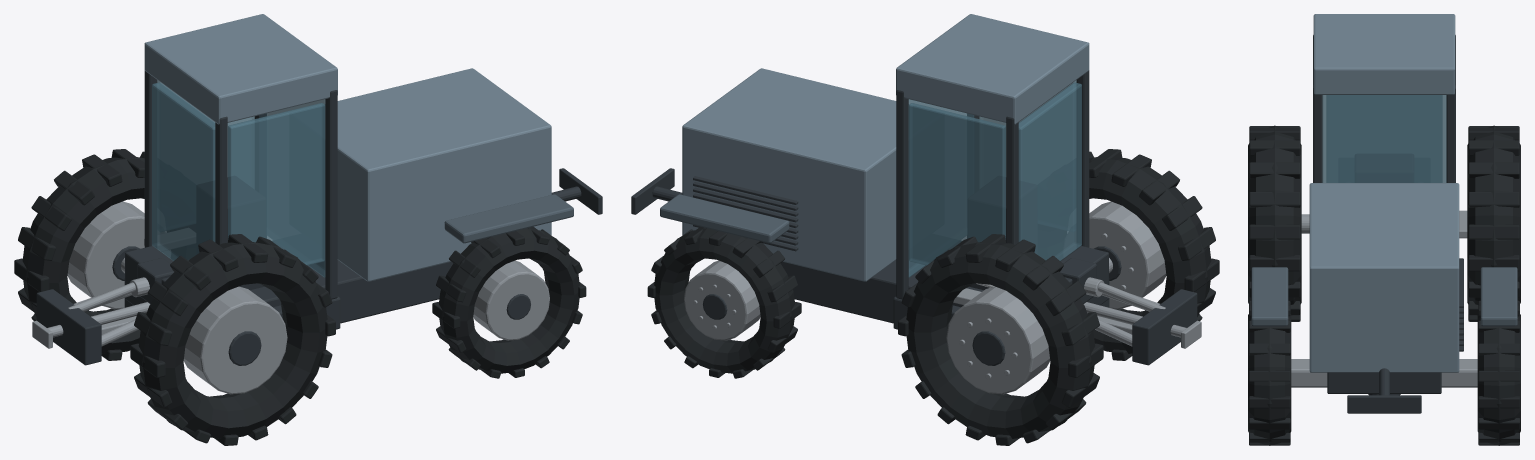
File: kubota-m8-201-structural-study.glb
3 renders of one model, left to right at view 1: azimuth 30°, elevation 25°; view 2: azimuth 150°, elevation 25°; view 3: azimuth 270°, elevation 25°, orthographic. The views are drawn at different scales.
Visible parts, largest first — view 1: Engine_Hood, Rear_R_Tire, Cab_Roof, Cab_R_Glass, Cab_Rear_Glass, Front_R_Tire, Rear_R_Rim, Rear_L_Tire, Tractor_Main_Frame, Rear_L_Rim, Front_R_Rim, Front_R_Fender (+23 smaller); view 2: Engine_Hood, Rear_L_Tire, Cab_Roof, Cab_L_Glass, Cab_Rear_Glass, Front_L_Tire, Rear_R_Tire, Rear_L_Rim, Rear_R_Rim, Tractor_Main_Frame, Front_L_Rim, Front_L_Fender (+22 smaller); view 3: Engine_Hood, Cab_Roof, Cab_Front_Glass, Rear_L_Tire, Rear_R_Tire, Front_L_Tire, Front_R_Tire, Tractor_Main_Frame, Front_L_Fender, Front_R_Fender, Operator_Seat, Front_Axle_Beam (+26 smaller).
Part boxes in pixels (bbox=[...]): Engine_Hood: bbox=[337, 68, 551, 281]; Rear_R_Tire: bbox=[138, 242, 327, 438]; Cab_Roof: bbox=[144, 14, 337, 124]; Cab_R_Glass: bbox=[228, 103, 324, 265]; Cab_Rear_Glass: bbox=[152, 82, 215, 260]; Front_R_Tire: bbox=[439, 228, 579, 373]; Rear_R_Rim: bbox=[183, 286, 287, 394]; Rear_L_Tire: bbox=[22, 157, 195, 353]; Tractor_Main_Frame: bbox=[124, 241, 453, 323]; Rear_L_Rim: bbox=[67, 201, 170, 309]; Front_R_Rim: bbox=[473, 260, 549, 340]; Front_R_Fender: bbox=[444, 194, 573, 243]; Engine_Hood: bbox=[682, 68, 896, 281]; Rear_L_Tire: bbox=[906, 242, 1095, 438]; Cab_Roof: bbox=[896, 14, 1089, 124]; Cab_L_Glass: bbox=[909, 103, 1005, 265]; Cab_Rear_Glass: bbox=[1018, 82, 1081, 260]; Front_L_Tire: bbox=[654, 228, 794, 373]; Rear_R_Tire: bbox=[1038, 157, 1211, 353]; Rear_L_Rim: bbox=[946, 286, 1050, 394]; Rear_R_Rim: bbox=[1063, 201, 1166, 309]; Tractor_Main_Frame: bbox=[780, 241, 1109, 323]; Front_L_Rim: bbox=[684, 260, 760, 340]; Front_L_Fender: bbox=[660, 194, 789, 243]; Engine_Hood: bbox=[1309, 183, 1459, 372]; Cab_Roof: bbox=[1313, 14, 1455, 94]; Cab_Front_Glass: bbox=[1322, 95, 1446, 182]; Rear_L_Tire: bbox=[1467, 125, 1520, 315]; Rear_R_Tire: bbox=[1248, 125, 1301, 315]; Front_L_Tire: bbox=[1477, 314, 1520, 445]; Front_R_Tire: bbox=[1248, 314, 1291, 445]; Tractor_Main_Frame: bbox=[1327, 372, 1441, 393]; Front_L_Fender: bbox=[1480, 267, 1517, 326]; Front_R_Fender: bbox=[1251, 267, 1288, 326]; Operator_Seat: bbox=[1355, 154, 1413, 182]; Front_Axle_Beam: bbox=[1291, 359, 1477, 387].
Bounding box in the file's own units: 5.75 × 3.25 × 2.65.
